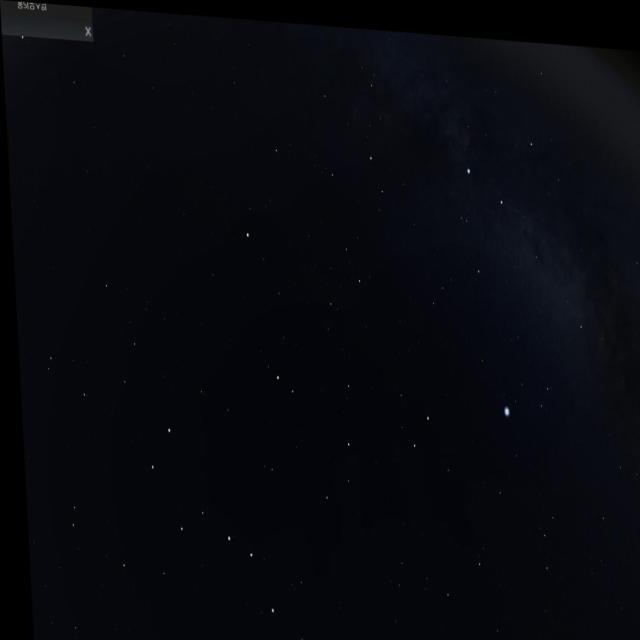cygnus: (456, 100, 589, 333)
lyra: (496, 344, 562, 428)
ursa_major: (136, 413, 280, 615)
